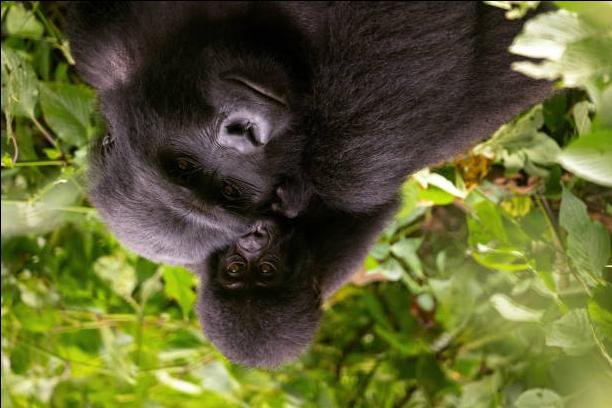goriile_montagne: (26, 0, 538, 283), (184, 190, 416, 386)
